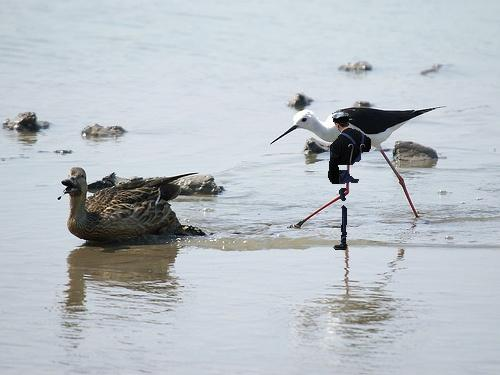tampered: (329, 111, 371, 250)
